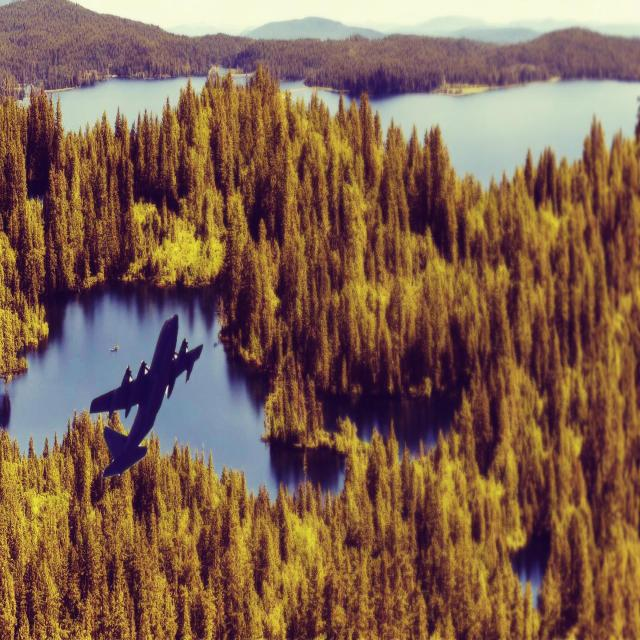airplane: (89, 312, 203, 479)
